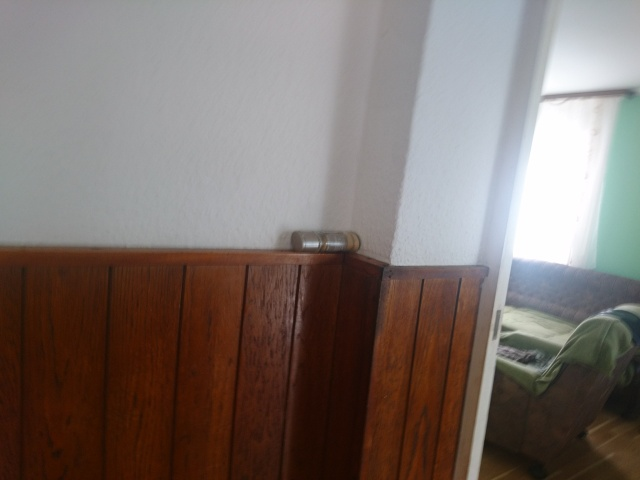Kotanyi Garlic Granules 70g: (288, 228, 362, 255)
